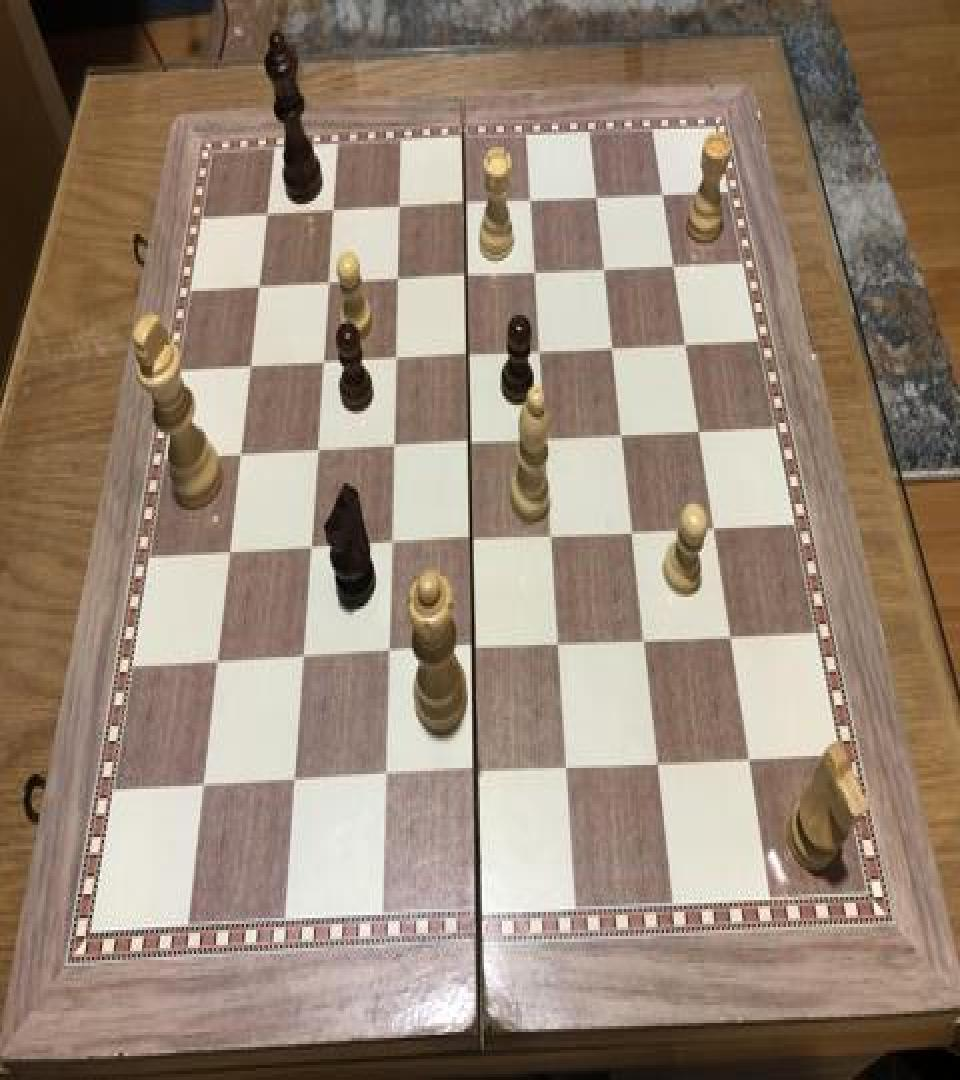xcorner: (718, 625, 742, 662), (373, 640, 397, 677), (737, 748, 761, 785), (370, 763, 394, 800), (651, 177, 675, 213), (584, 182, 608, 218), (517, 184, 541, 220), (451, 189, 475, 225), (385, 192, 409, 228), (319, 196, 343, 232), (253, 200, 277, 236), (662, 249, 686, 285), (592, 254, 616, 290), (522, 256, 546, 292), (452, 261, 476, 297), (383, 266, 407, 302), (314, 268, 338, 304), (245, 273, 269, 309), (600, 333, 624, 369), (527, 338, 551, 374), (453, 340, 477, 376), (381, 345, 405, 381), (308, 348, 332, 384), (236, 352, 260, 388), (687, 417, 711, 453), (609, 422, 633, 458), (532, 424, 556, 460), (455, 429, 479, 465), (378, 432, 402, 468), (302, 436, 326, 472), (226, 441, 250, 477), (702, 516, 726, 552), (620, 519, 644, 555), (538, 524, 562, 560), (457, 526, 481, 562), (376, 531, 400, 567), (295, 534, 319, 570), (215, 538, 239, 574), (631, 628, 655, 664), (545, 633, 569, 669), (459, 636, 483, 672), (288, 644, 312, 680), (203, 648, 227, 684), (644, 753, 668, 789), (552, 756, 576, 792), (461, 759, 485, 795), (279, 766, 303, 802), (189, 771, 213, 807), (674, 329, 698, 364)
